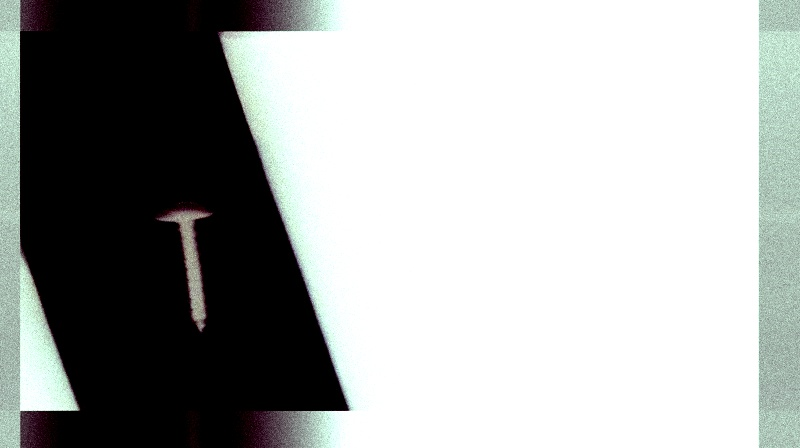S003: (150, 198, 218, 333)
